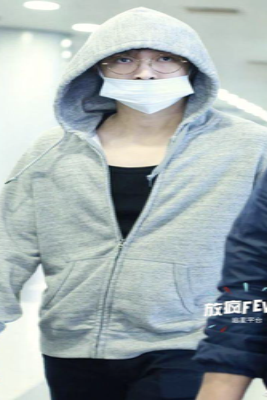mask_weared_incorrect: (94, 50, 195, 114)
